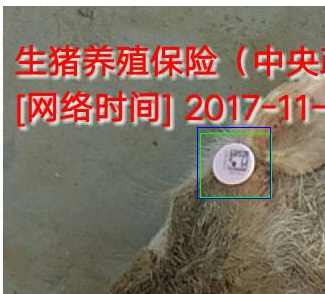text: (200, 133, 271, 197)
